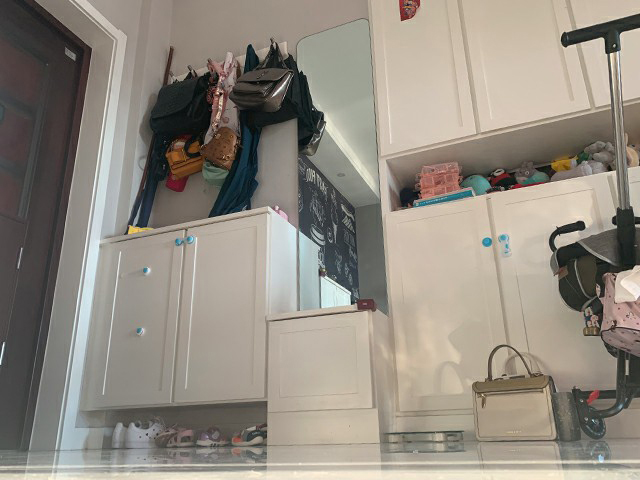cabinet: (368, 1, 640, 444), (265, 297, 391, 446)
